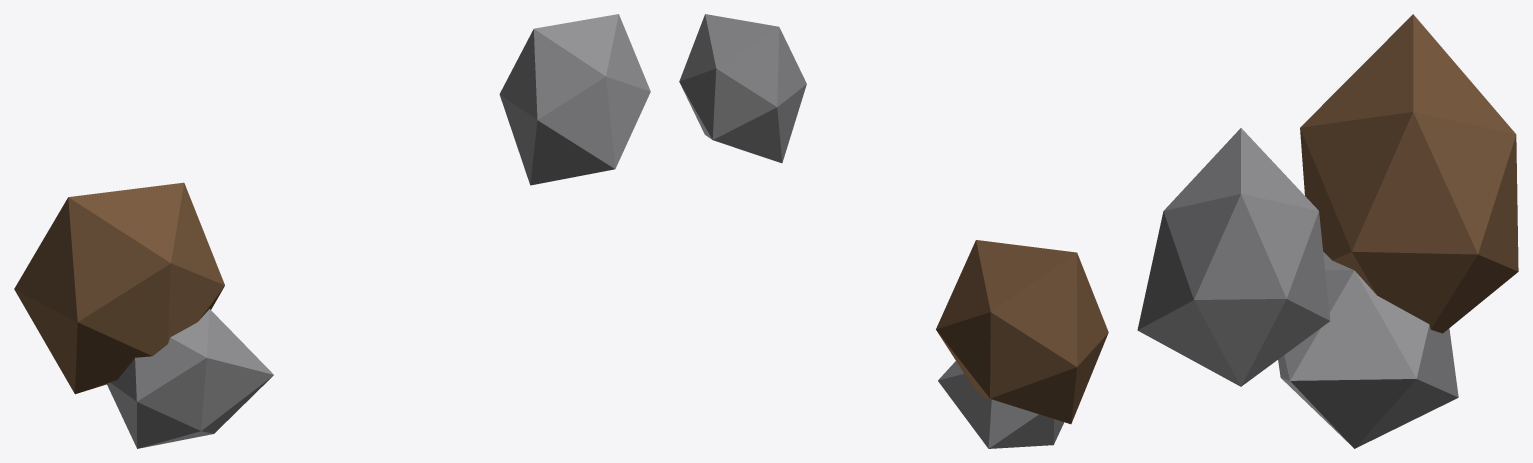
File: frame_5.glb
The picture shows the model from 3 angles, left to right: view 1: azimuth 30°, elevation 25°; view 2: azimuth 150°, elevation 25°; view 3: azimuth 270°, elevation 25°; orthographic projection. The views are drawn at different scales.
Parts seen in each view (by area): view 1: effect_diesel_smoke_frame_5; view 2: effect_diesel_smoke_frame_5; view 3: effect_diesel_smoke_frame_5.
Part boxes in pixels (left/top/right/bottom): effect_diesel_smoke_frame_5: left=14, top=14, right=650, bottom=448; effect_diesel_smoke_frame_5: left=679, top=14, right=1108, bottom=448; effect_diesel_smoke_frame_5: left=1137, top=14, right=1518, bottom=448.
Bounding box in the file's own units: 3.72 × 2.46 × 1.66.
